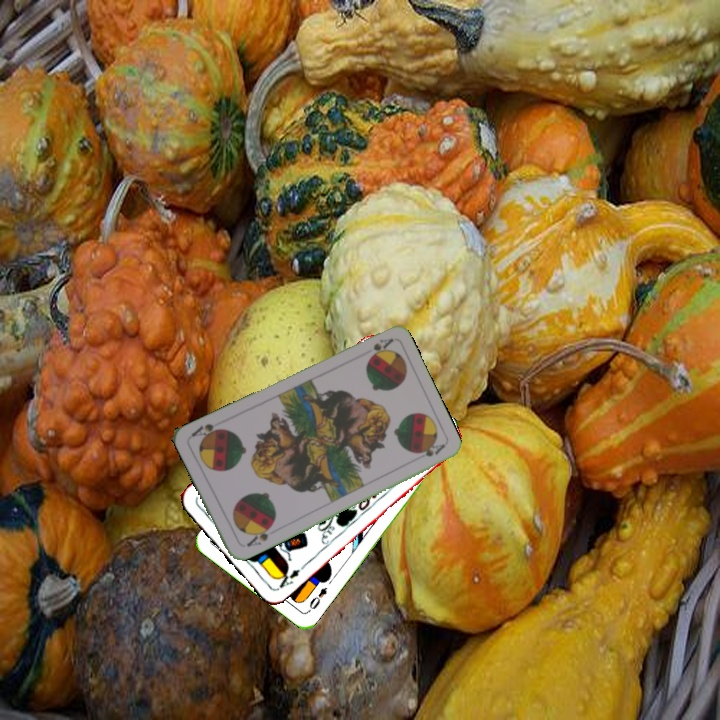EA: (272, 565, 303, 592)
EO: (304, 583, 330, 615)
SA: (242, 521, 275, 549), (364, 334, 395, 362)
